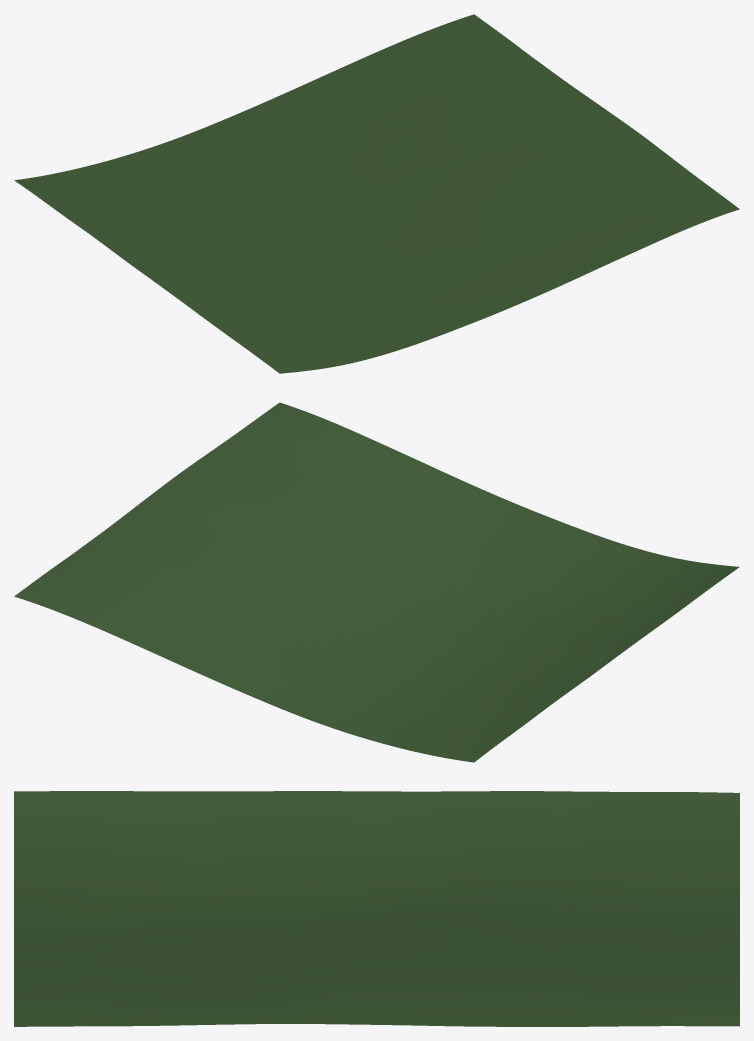
Rendered from chunk5-2_LOD0.obj.
3 views of the same model, one above another, from view 1: azimuth 30°, elevation 25°; view 2: azimuth 150°, elevation 25°; view 3: azimuth 270°, elevation 25° (orthographic). The views are drawn at different scales.
Parts seen in each view (by area): view 1: Terrain; view 2: Terrain; view 3: Terrain.
Boxes of the visible parts, x1=… form: Terrain: x1=14, y1=14, x2=739, y2=373; Terrain: x1=14, y1=402, x2=739, y2=762; Terrain: x1=14, y1=791, x2=739, y2=1026.
Bounding box in the file's own units: 4000 × 522 × 4000.
